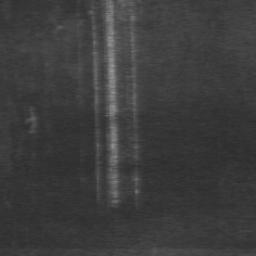Bright scratch: (101, 0, 121, 208), (90, 0, 101, 200), (129, 0, 140, 193)
